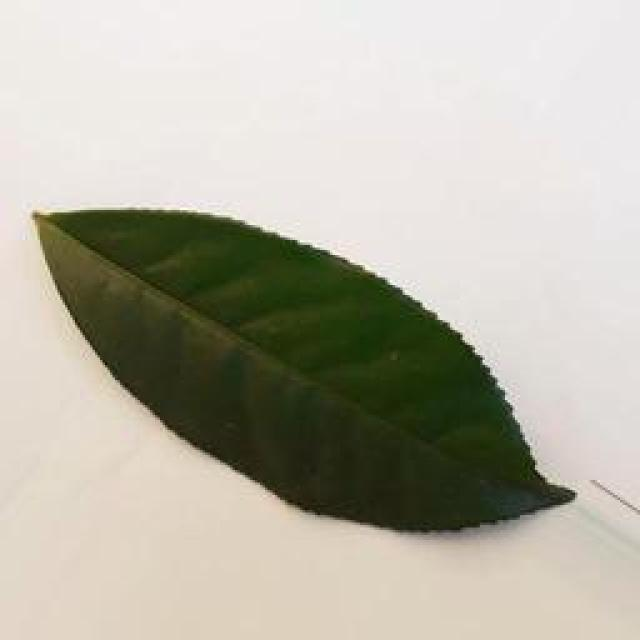Healthy: (28, 200, 579, 536)
